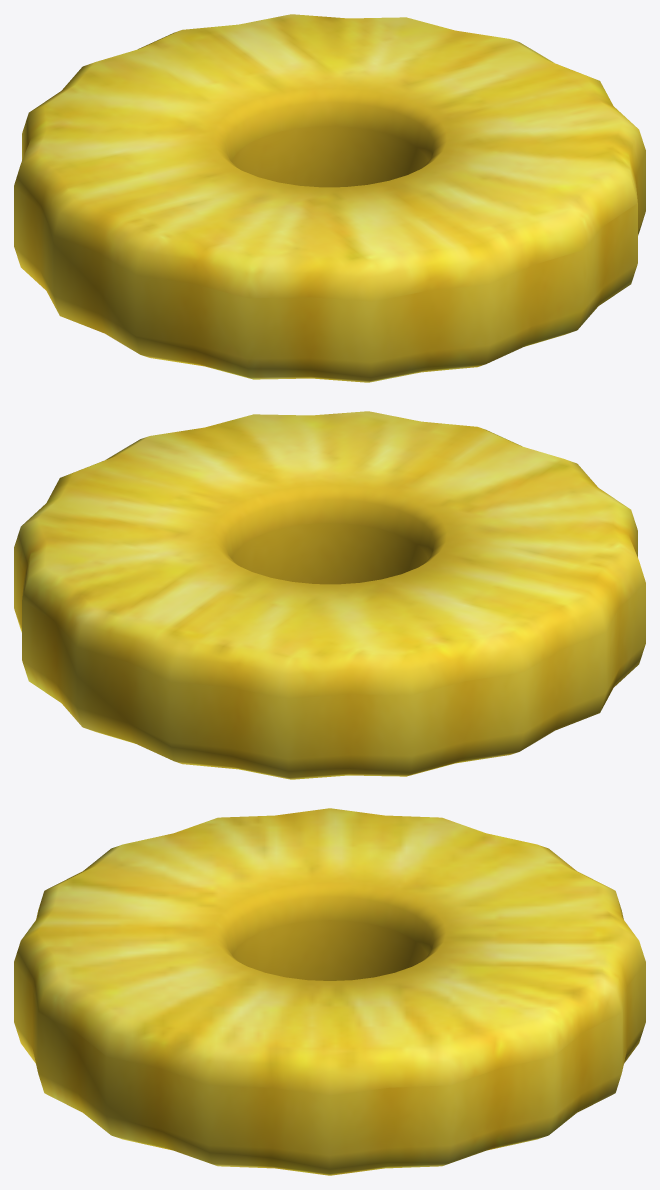
The model's file is Restaurant_Ice cream_A slice of pineapple.FBX.
The picture shows the model from 3 angles, top to bottom: view 1: azimuth 30°, elevation 25°; view 2: azimuth 150°, elevation 25°; view 3: azimuth 270°, elevation 25°; orthographic projection.
Parts seen in each view (by area): view 1: polySurface25982222; view 2: polySurface25982222; view 3: polySurface25982222.
Boxes of the visible parts, x1,y1,x2,y2 form: polySurface25982222: [14, 14, 645, 382]; polySurface25982222: [14, 411, 645, 779]; polySurface25982222: [14, 808, 645, 1175].
Size of the model in its own units: 4.65 by 0.9749 by 4.65.
